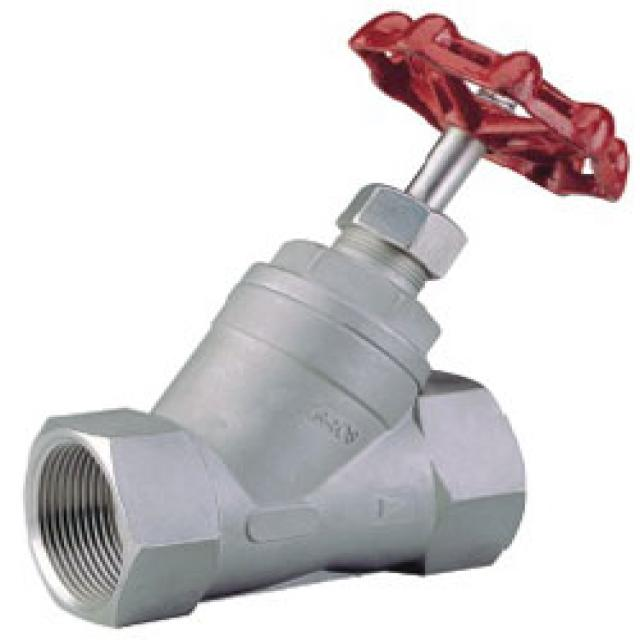Wheel Handle Valve Threaded: (341, 0, 640, 213)
